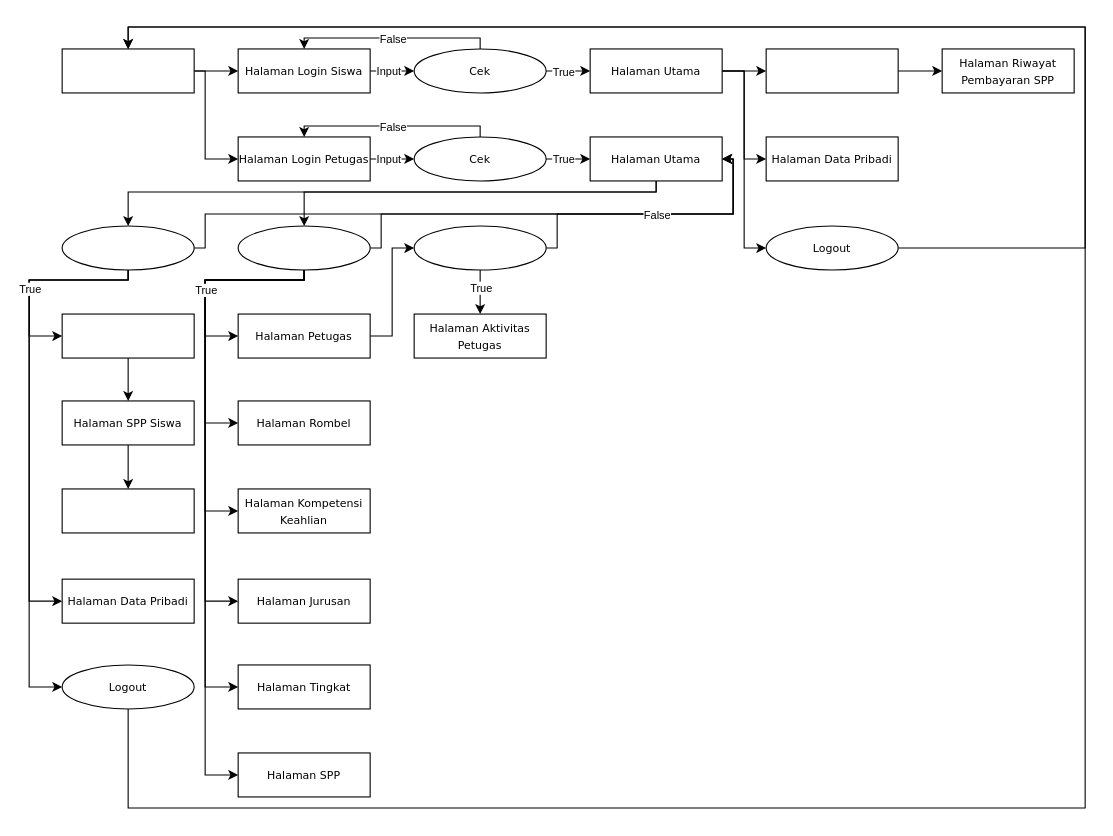
Some shapes in this 1113 by 836 pixel diagram are drawn without their labels. Here are the shapes that lost their labels. From the top down, the centre of each, then its label:
At point (127, 70): "Halaman Pengunjung".
At point (831, 70): "Halaman Riwayat SPP".
At point (127, 247): "Minimal Petugas".
At point (303, 247): "Minimal Admin".
At point (479, 247): "Minimal Superadmin".
At point (127, 335): "Halaman Siswa".
At point (127, 510): "Halaman Pembayaran SPP Siswa".
